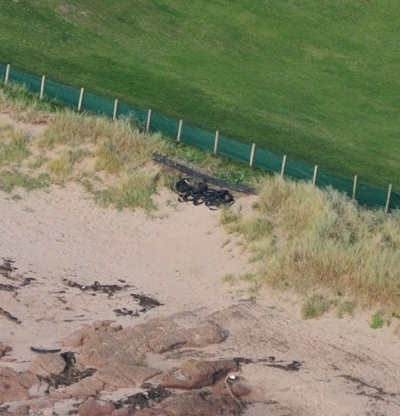straight_bar: (147, 145, 261, 197)
white_in_green: (155, 146, 248, 238)
